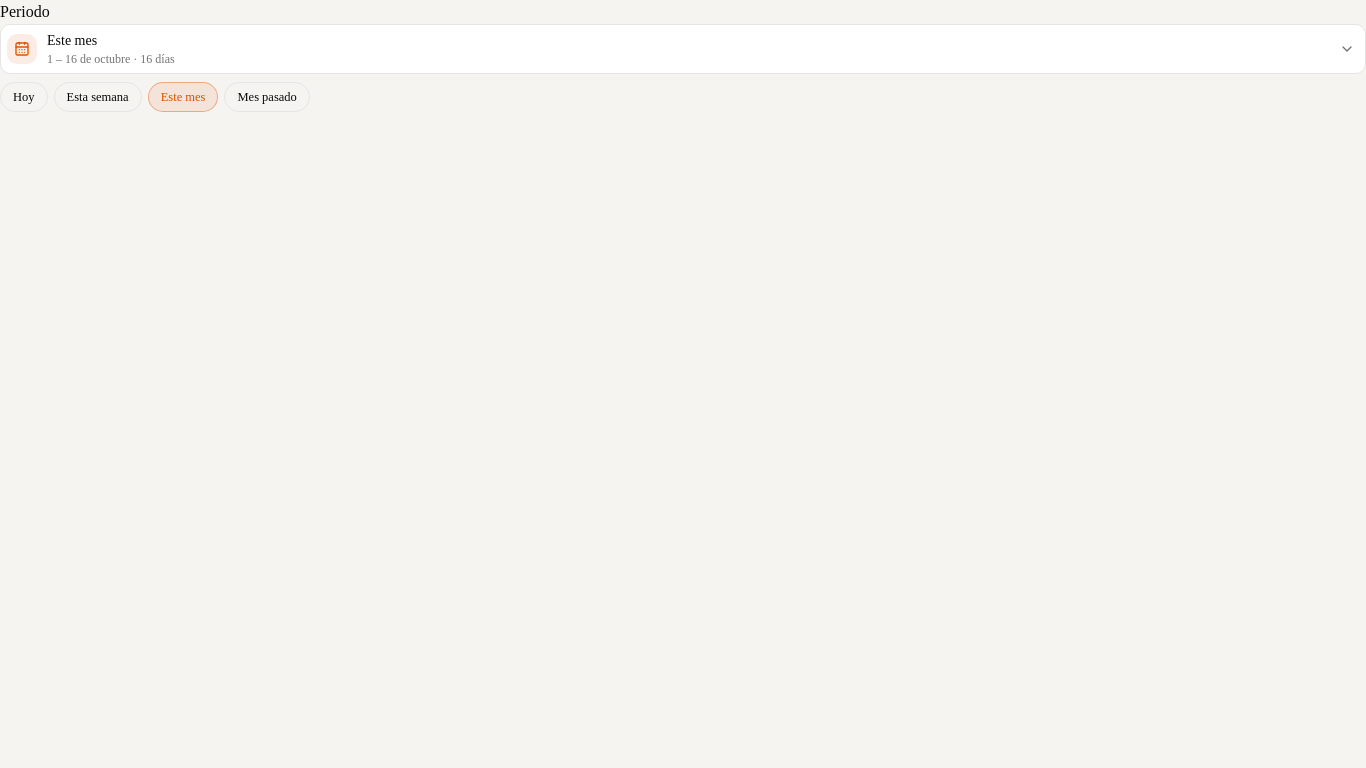
Test: RangoFechas › los días después de hoy quedan deshabilitados
Click the button named "Periodo": x=72, y=40 top-left (0, 24), bottom-right (1365, 74)
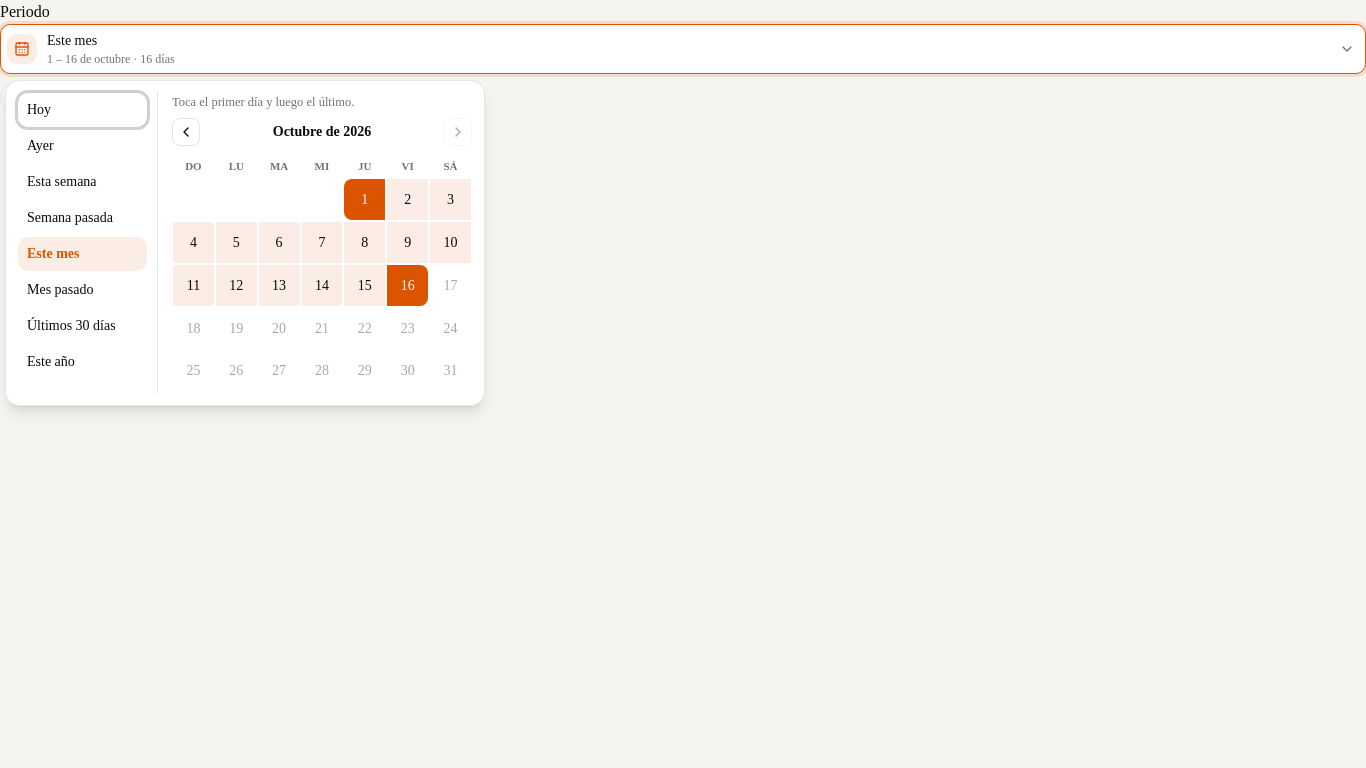
Expected: the button named "sábado 17 de octubre" is disabled, top-left (430, 265), bottom-right (471, 306)
Expected: the button named "viernes 16 de octubre" is enabled, top-left (387, 265), bottom-right (428, 306)
